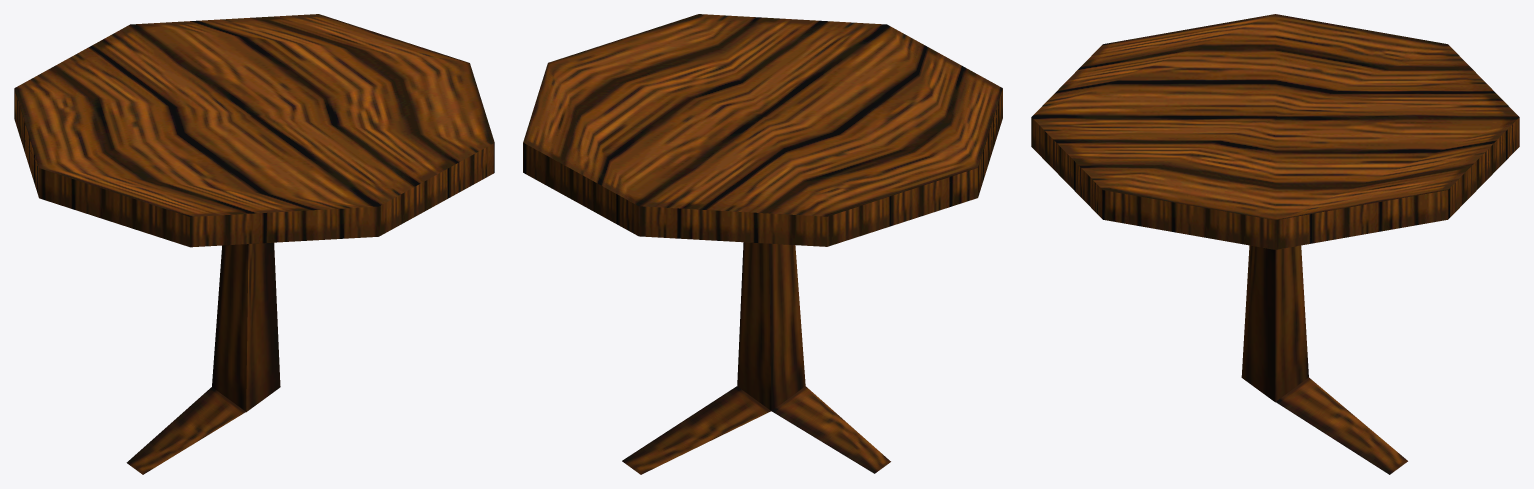
Rendered from Tisch_Rund [Braun]_2367.glb.
3 renders of one model, left to right at view 1: azimuth 30°, elevation 25°; view 2: azimuth 150°, elevation 25°; view 3: azimuth 270°, elevation 25°, orthographic.
Visible parts, largest first — view 1: pPlaneShape67, pCylinderShape105, pCylinderShape101, pPlaneShape64; view 2: pPlaneShape67, pCylinderShape105, pCylinderShape101, pPlaneShape65, pPlaneShape64; view 3: pPlaneShape67, pCylinderShape105, pCylinderShape101, pPlaneShape65.
Boxes of the visible parts, x1,y1,x2,y2 form: pPlaneShape67: (14,14,494,216); pCylinderShape105: (14,89,494,247); pCylinderShape101: (212,242,280,412); pPlaneShape64: (126,387,245,474); pPlaneShape67: (523,14,1002,216); pCylinderShape105: (523,88,1002,246); pCylinderShape101: (737,242,805,410); pPlaneShape65: (622,386,771,474); pPlaneShape64: (772,386,890,473); pPlaneShape67: (1031,14,1519,220); pCylinderShape105: (1031,117,1519,249); pCylinderShape101: (1241,245,1308,402); pPlaneShape65: (1276,377,1407,474).
Bounding box in the file's own units: 0.1581 × 0.1136 × 0.1581.
6 materials, 6 textured.
